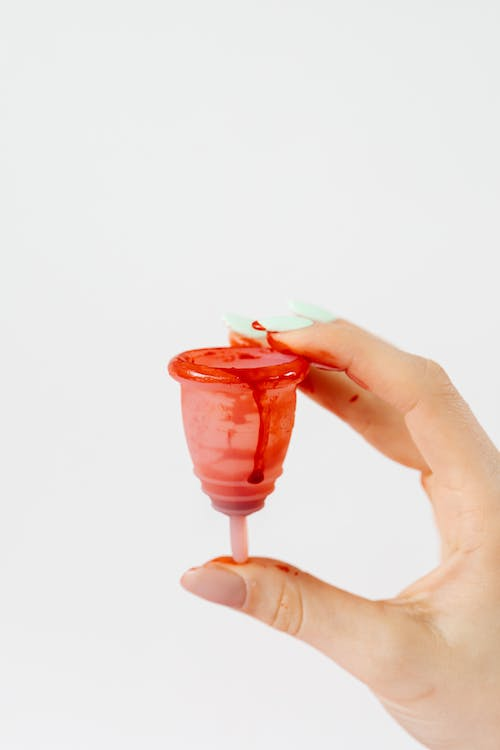blood: (165, 344, 311, 516), (226, 313, 369, 407), (189, 549, 301, 582)
